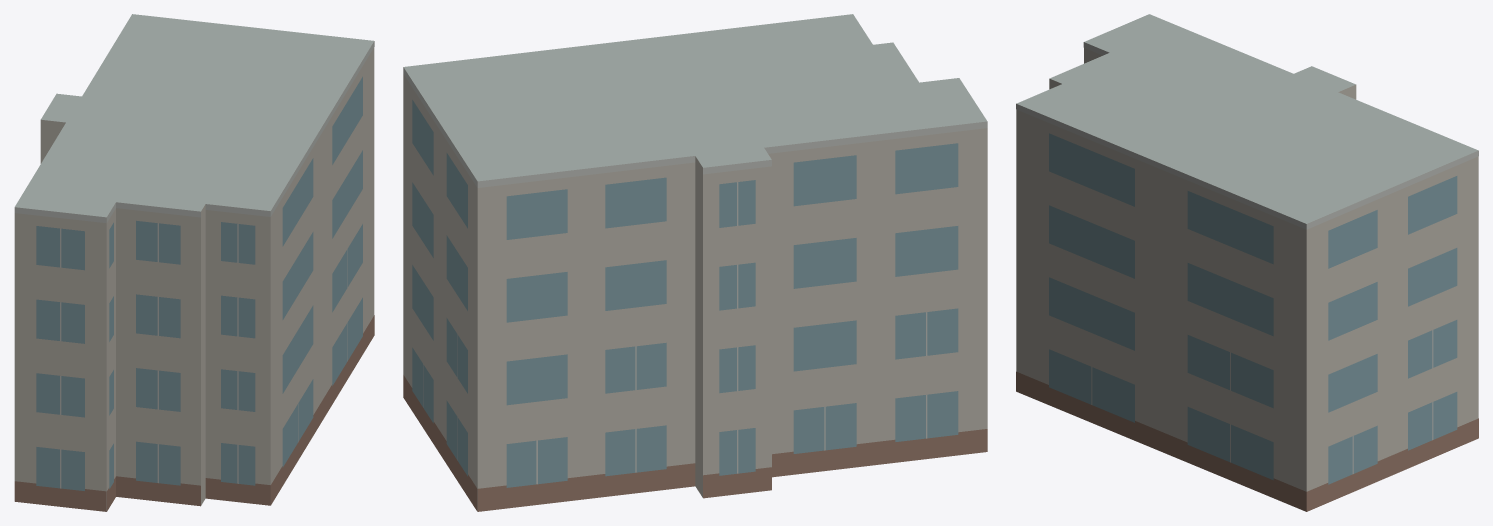
Rendered from survey-upis-32744349.glb.
3 views of the same model, side by side, from view 1: azimuth 30°, elevation 25°; view 2: azimuth 150°, elevation 25°; view 3: azimuth 270°, elevation 25° (orthographic). The views are drawn at different scales.
Visible parts, largest first — view 1: survey-upis-32744349.tmp; view 2: survey-upis-32744349.tmp; view 3: survey-upis-32744349.tmp.
Part boxes in pixels (box(x1,y1,x2,y2)): survey-upis-32744349.tmp: box(14, 14, 374, 511); survey-upis-32744349.tmp: box(403, 14, 987, 511); survey-upis-32744349.tmp: box(1016, 14, 1478, 511).
Bounding box in the file's own units: 19.09 × 12.2 × 17.77.
